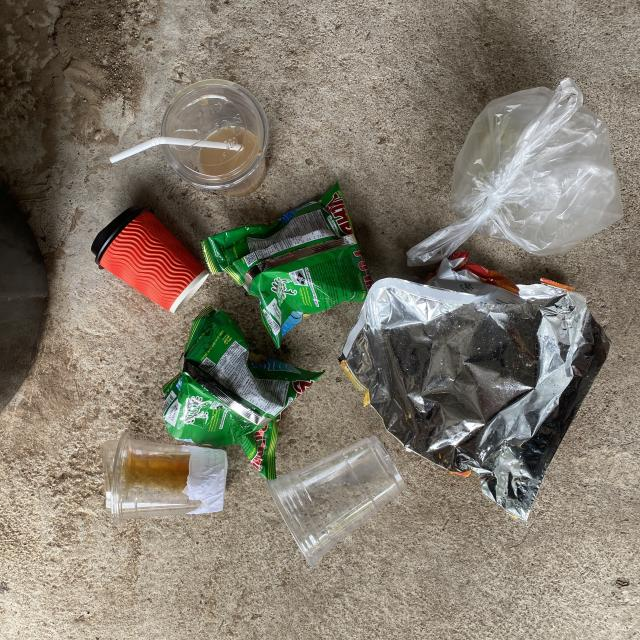Single-layer Plastic: (408, 79, 622, 266)
